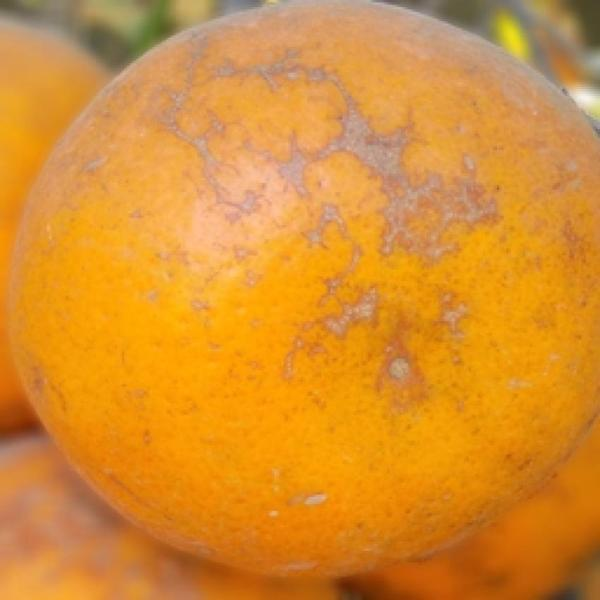Canker: (4, 0, 597, 569)
